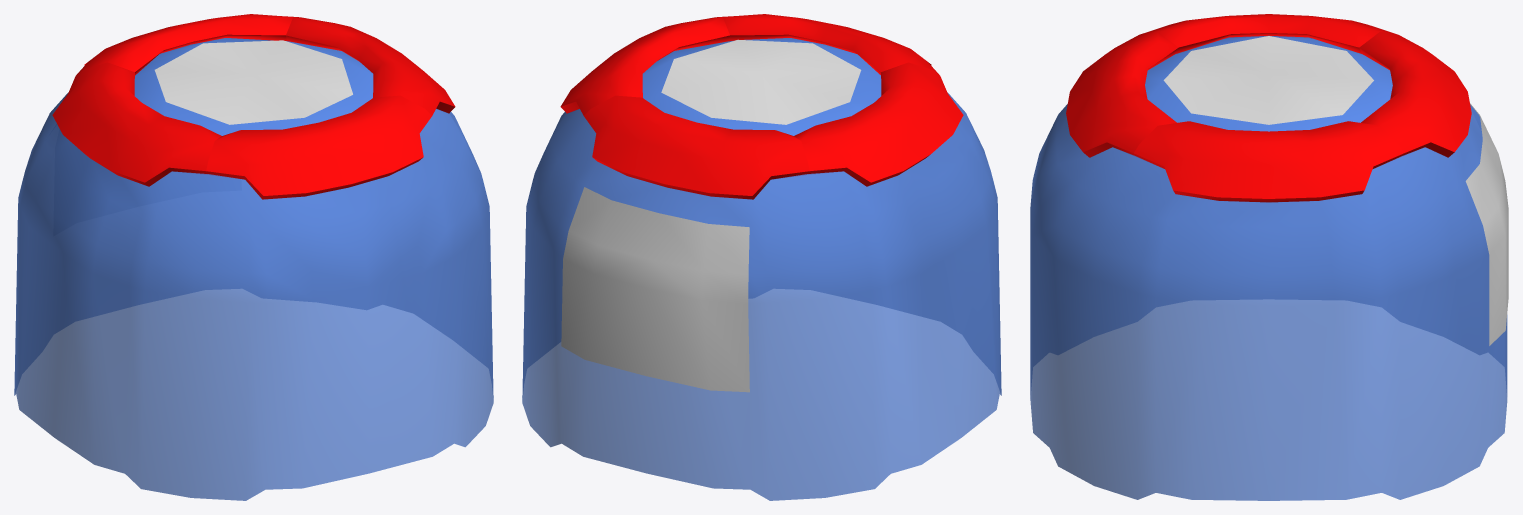
The model's file is obj_characterobject_totebotpackage_top.fbx.
The picture shows the model from 3 angles, left to right: view 1: azimuth 30°, elevation 25°; view 2: azimuth 150°, elevation 25°; view 3: azimuth 270°, elevation 25°; orthographic projection. The views are drawn at different scales.
Parts seen in each view (by area): view 1: g; view 2: g; view 3: g.
Part boxes in pixels (bbox=[...]): g: bbox=[14, 14, 493, 500]; g: bbox=[522, 14, 1001, 500]; g: bbox=[1030, 14, 1508, 500].
Bounding box in the file's own units: 6.69 × 5.22 × 6.7.
